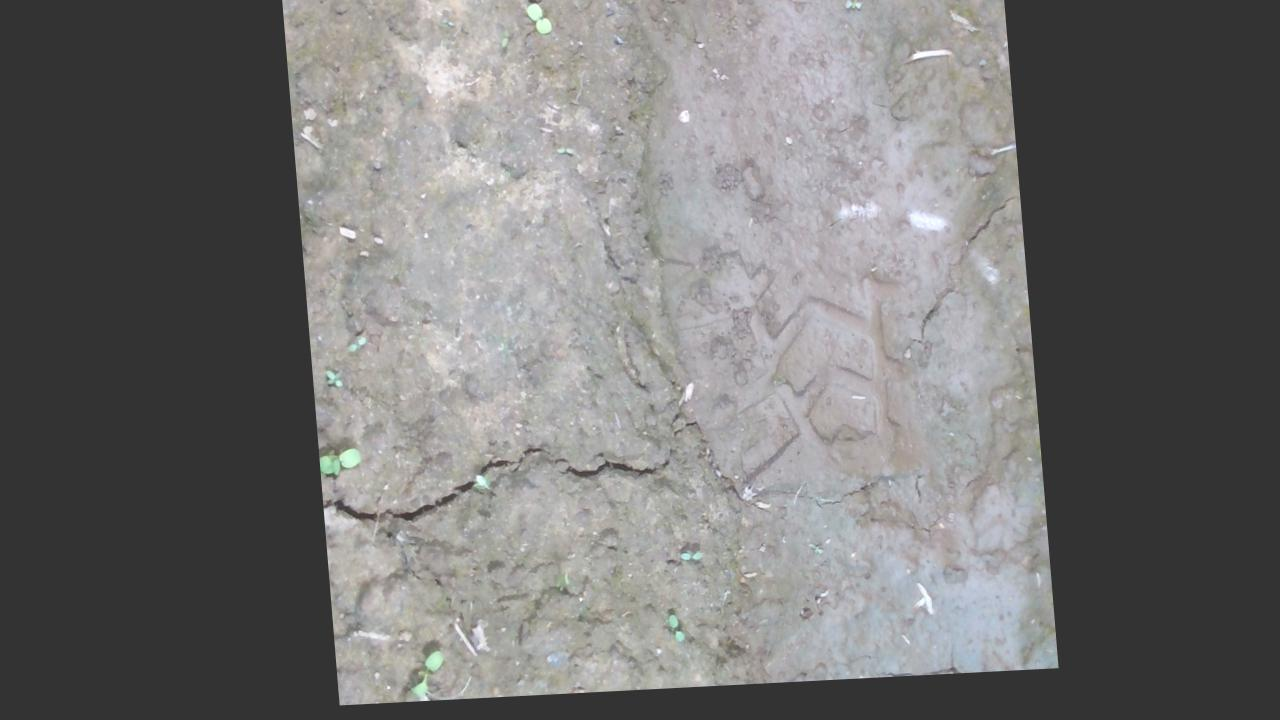weed: (649, 613, 679, 656), (528, 4, 558, 42), (666, 547, 698, 576), (460, 482, 494, 503)
